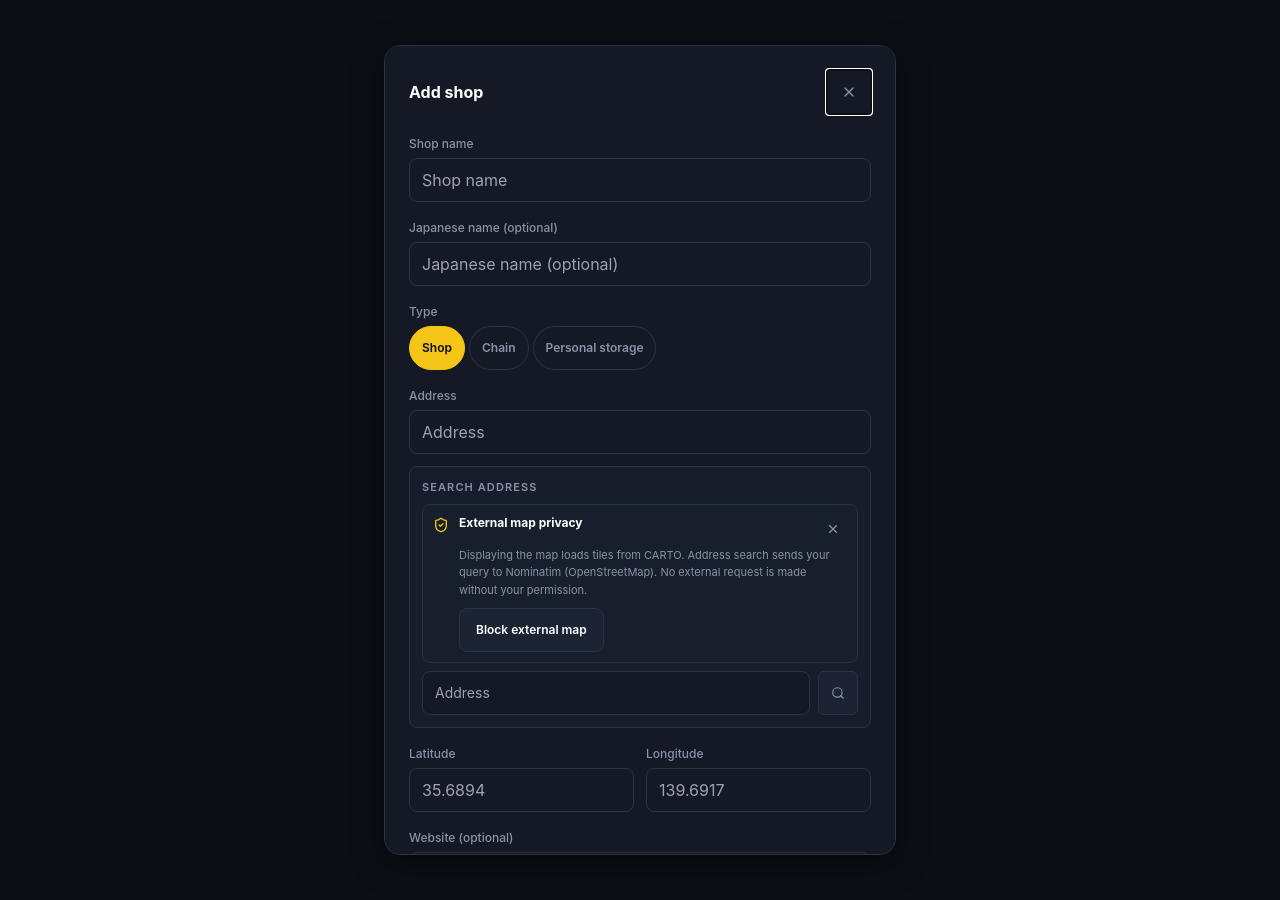
it: AddEditPlaceModal branches › shows the geocode-error message when Nominatim fails
Type "fail" into the field with placeholder "Address" below "External map privacy" at [616, 693], box top-left (422, 671), bottom-right (810, 715)
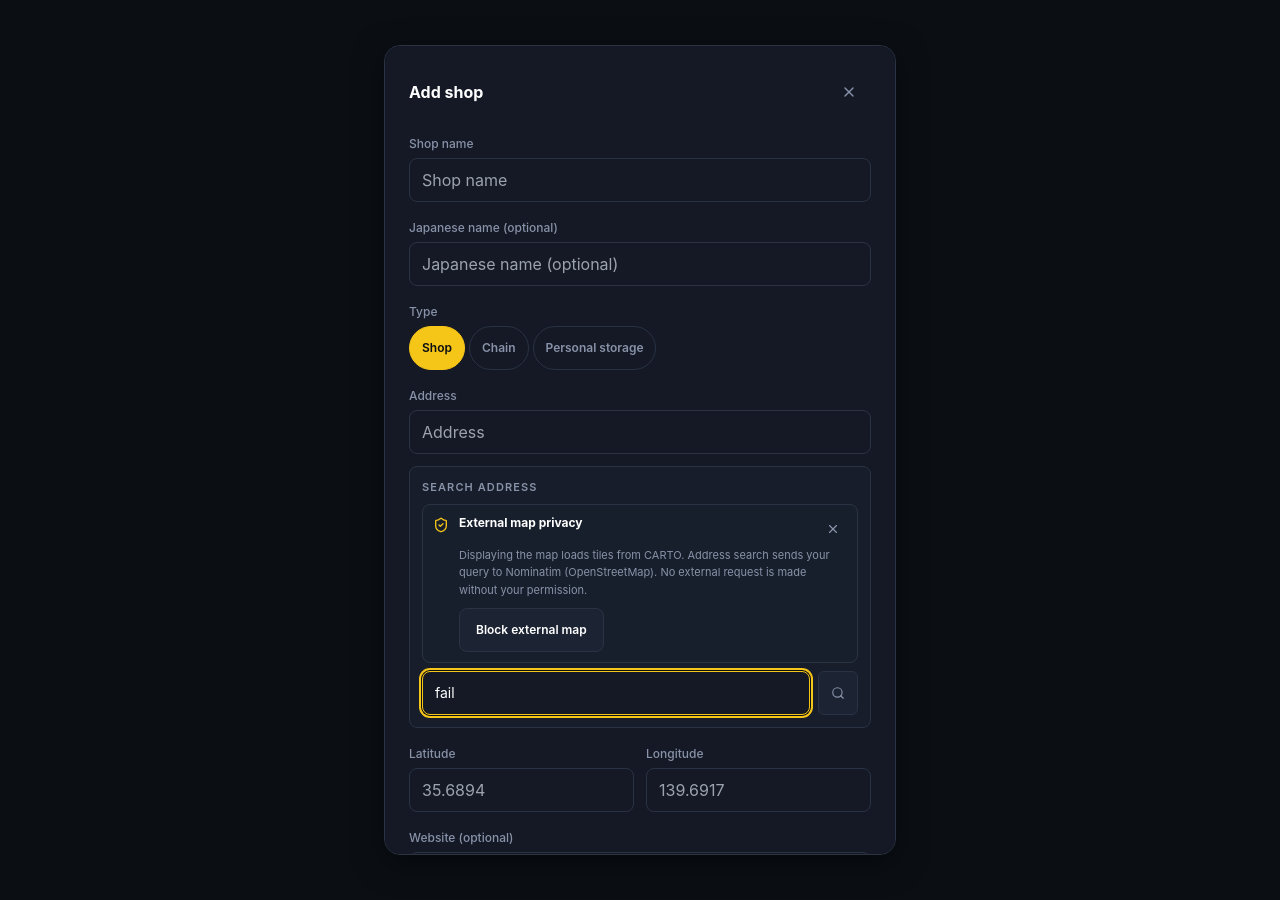
Click the button named "Search" at [838, 693], box top-left (818, 671), bottom-right (858, 715)
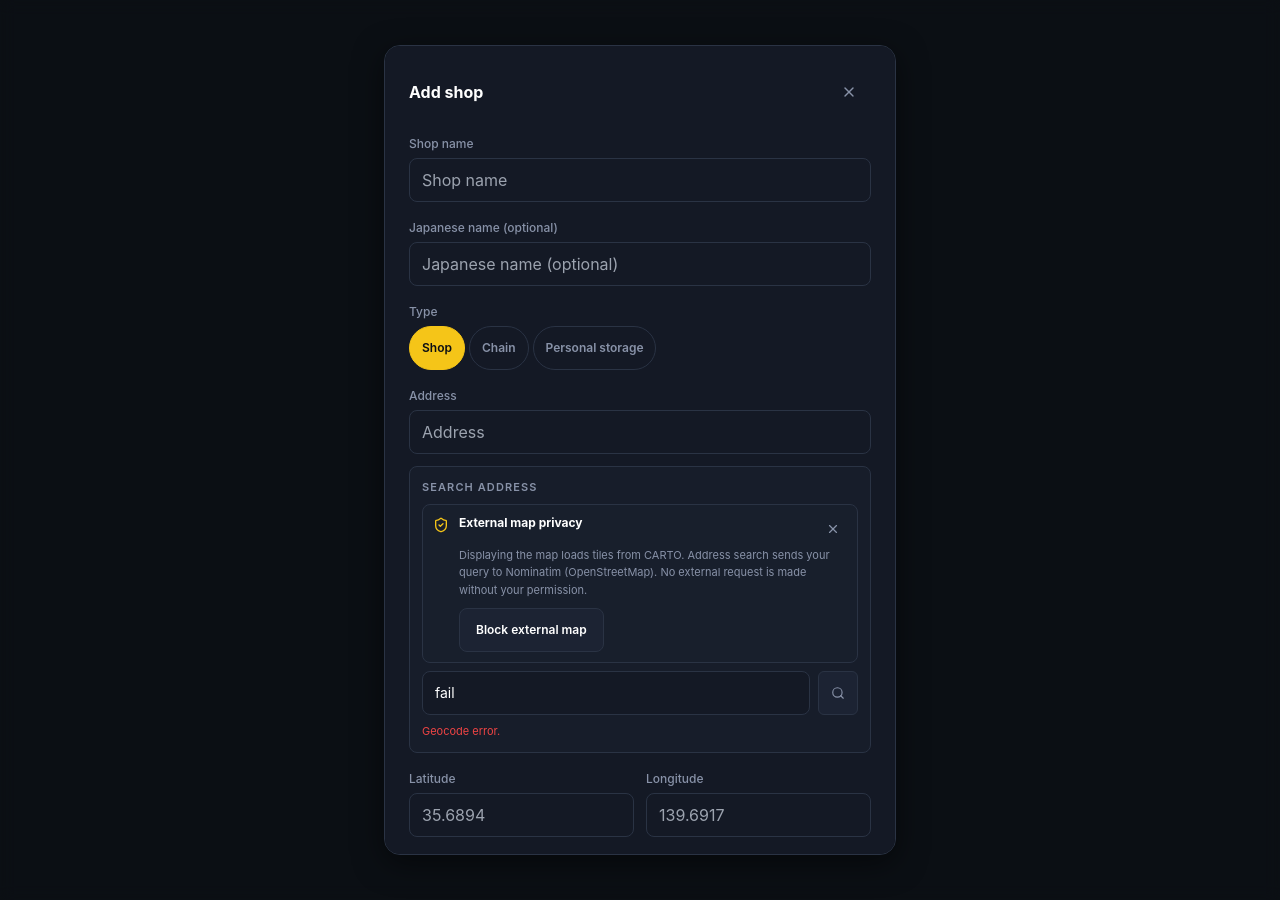
Check: the text "Geocode error." is shown, box top-left (422, 724), bottom-right (500, 738)
